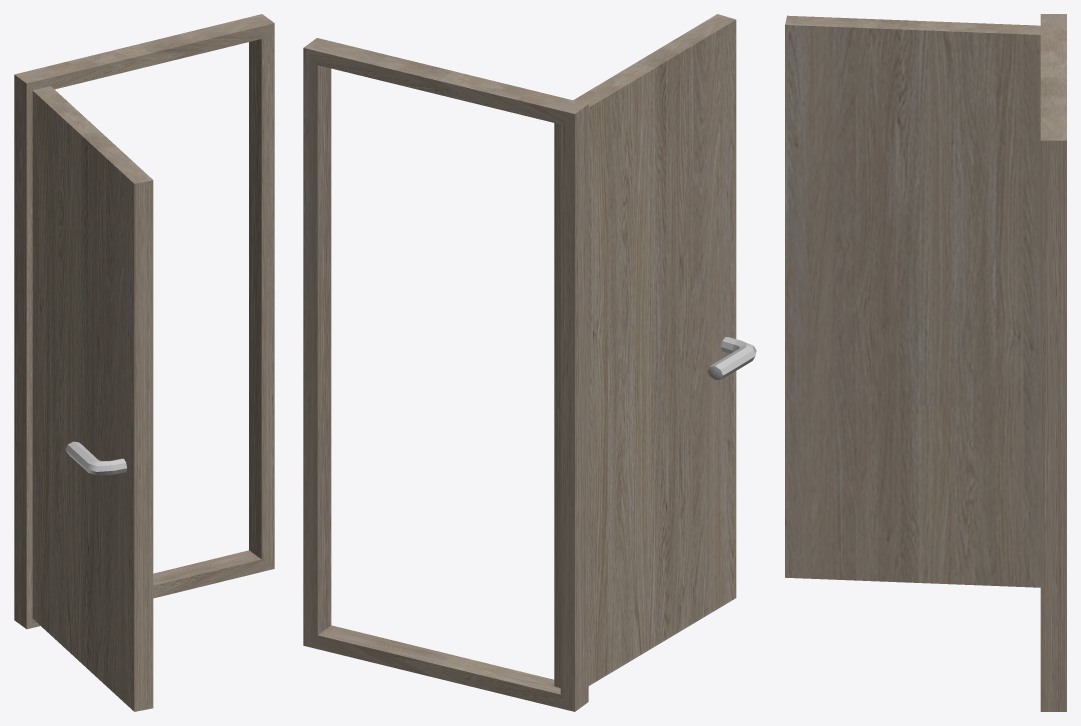
Rendered from door.fbx.
The picture shows the model from 3 angles, left to right: view 1: azimuth 30°, elevation 25°; view 2: azimuth 150°, elevation 25°; view 3: azimuth 270°, elevation 25°; orthographic projection. The views are drawn at different scales.
Parts seen in each view (by area): view 1: pCylinder1, pCube3; view 2: pCylinder1, pCube3; view 3: pCylinder1, pCube3.
Part boxes in pixels (box(x1,y1,x2,y2)): pCylinder1: box(32, 86, 153, 711); pCube3: box(14, 14, 274, 629); pCylinder1: box(554, 14, 756, 687); pCube3: box(303, 38, 588, 711); pCylinder1: box(785, 15, 1040, 587); pCube3: box(1040, 14, 1066, 711).
Bounding box in the file's own units: 2.57 × 4.56 × 2.04.
